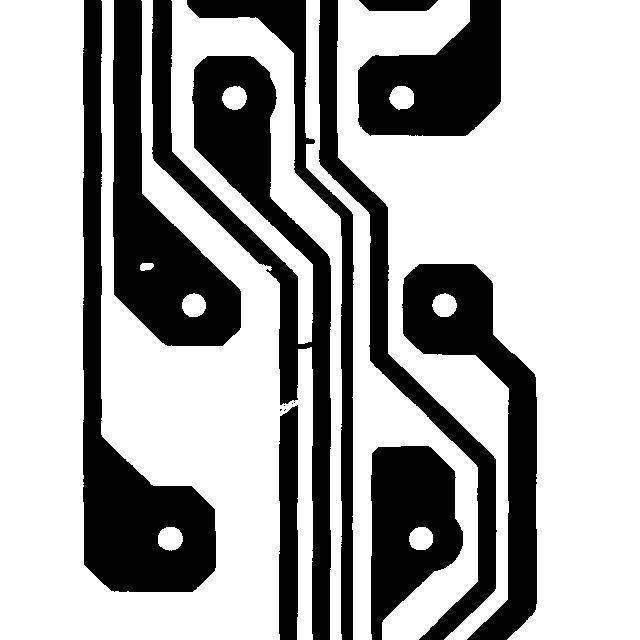mousebite: (247, 254, 281, 280)
open: (261, 390, 309, 426)
pin-hole: (130, 253, 163, 280)
short: (285, 332, 322, 358)
spur: (290, 127, 324, 153)
